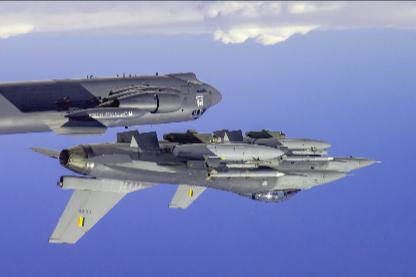B2: (1, 71, 223, 137)
F14: (27, 130, 358, 245), (168, 129, 384, 209)
